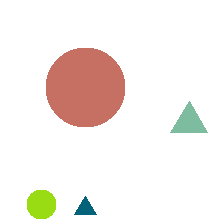circle: (46, 48, 124, 126), (27, 190, 55, 218)
triangle: (170, 101, 207, 132), (74, 196, 96, 214)
